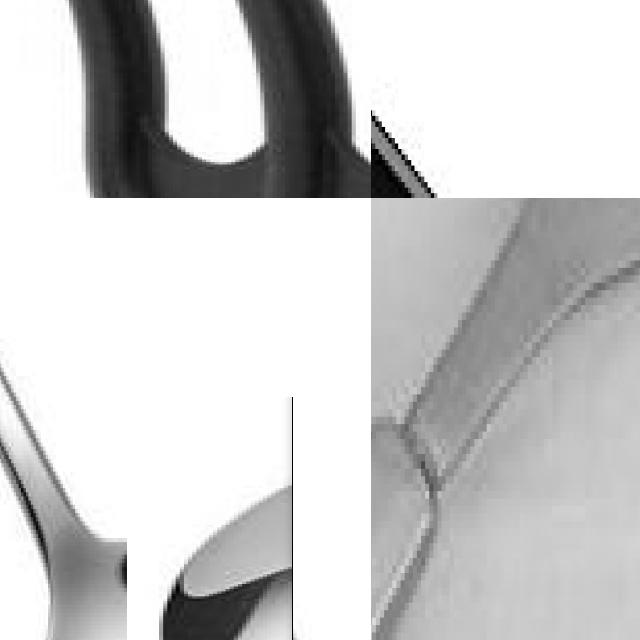forks: (0, 0, 371, 198)
spoons: (73, 451, 347, 640)
